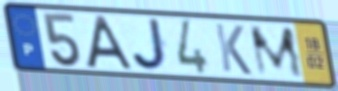4: (175, 18, 212, 77)
5: (40, 11, 83, 69)
A: (84, 13, 136, 72)
J: (130, 17, 172, 73)
K: (213, 21, 255, 77)
M: (246, 25, 307, 79)
